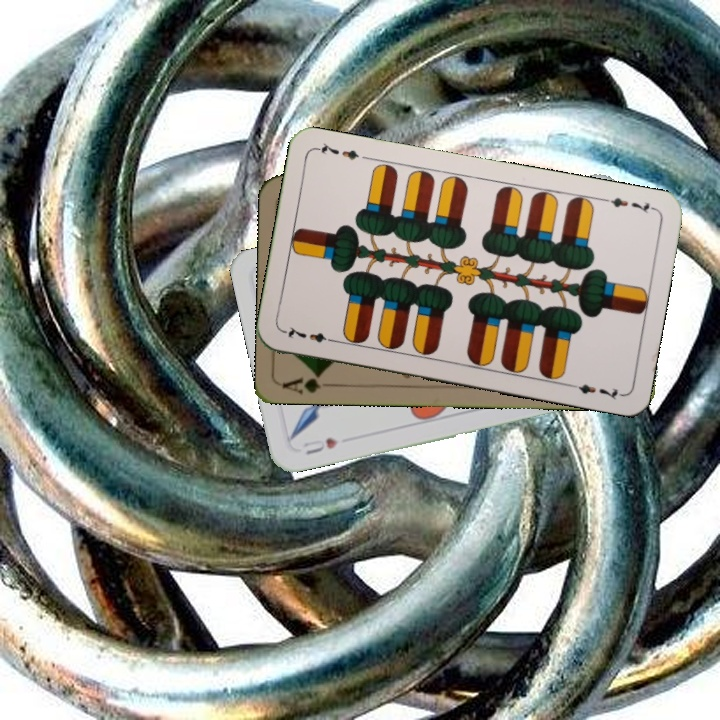E7: (280, 322, 339, 346), (599, 193, 658, 216)
GA: (280, 369, 339, 396)
HU: (299, 433, 341, 457)
